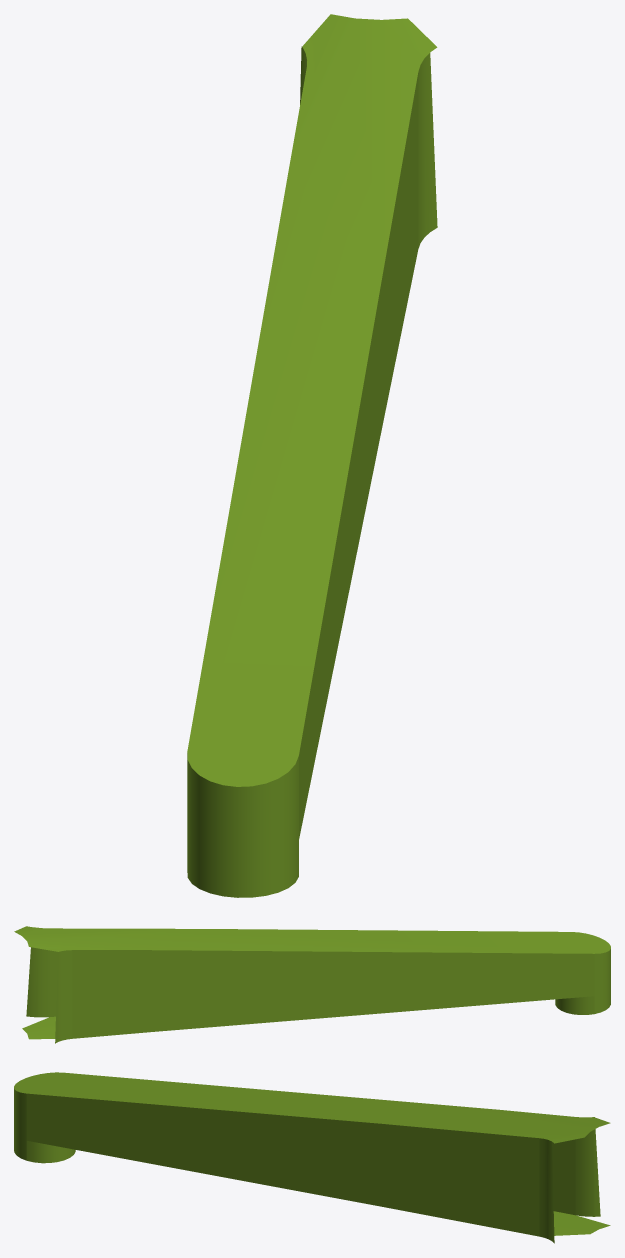
3 renders of one model, top to bottom at view 1: azimuth 30°, elevation 25°; view 2: azimuth 150°, elevation 25°; view 3: azimuth 270°, elevation 25°, orthographic. The views are drawn at different scales.
Bounding box in the file's own units: 0.2943 × 0.1364 × 0.3908.
